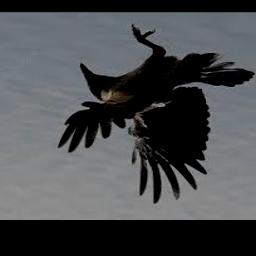Crow: (59, 24, 256, 205)
